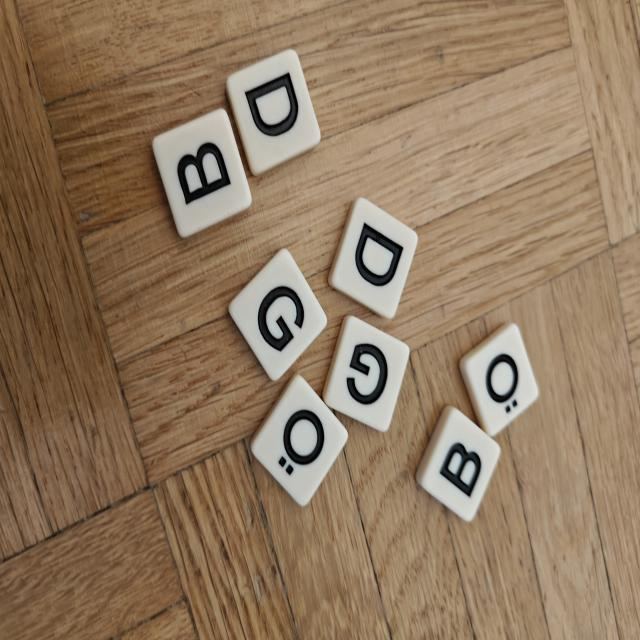b: (152, 109, 251, 238), (416, 405, 501, 521)
d: (227, 49, 320, 175), (328, 197, 418, 318)
g: (229, 249, 327, 380), (322, 315, 409, 431)
o_dot: (250, 374, 348, 506), (459, 323, 538, 436)
